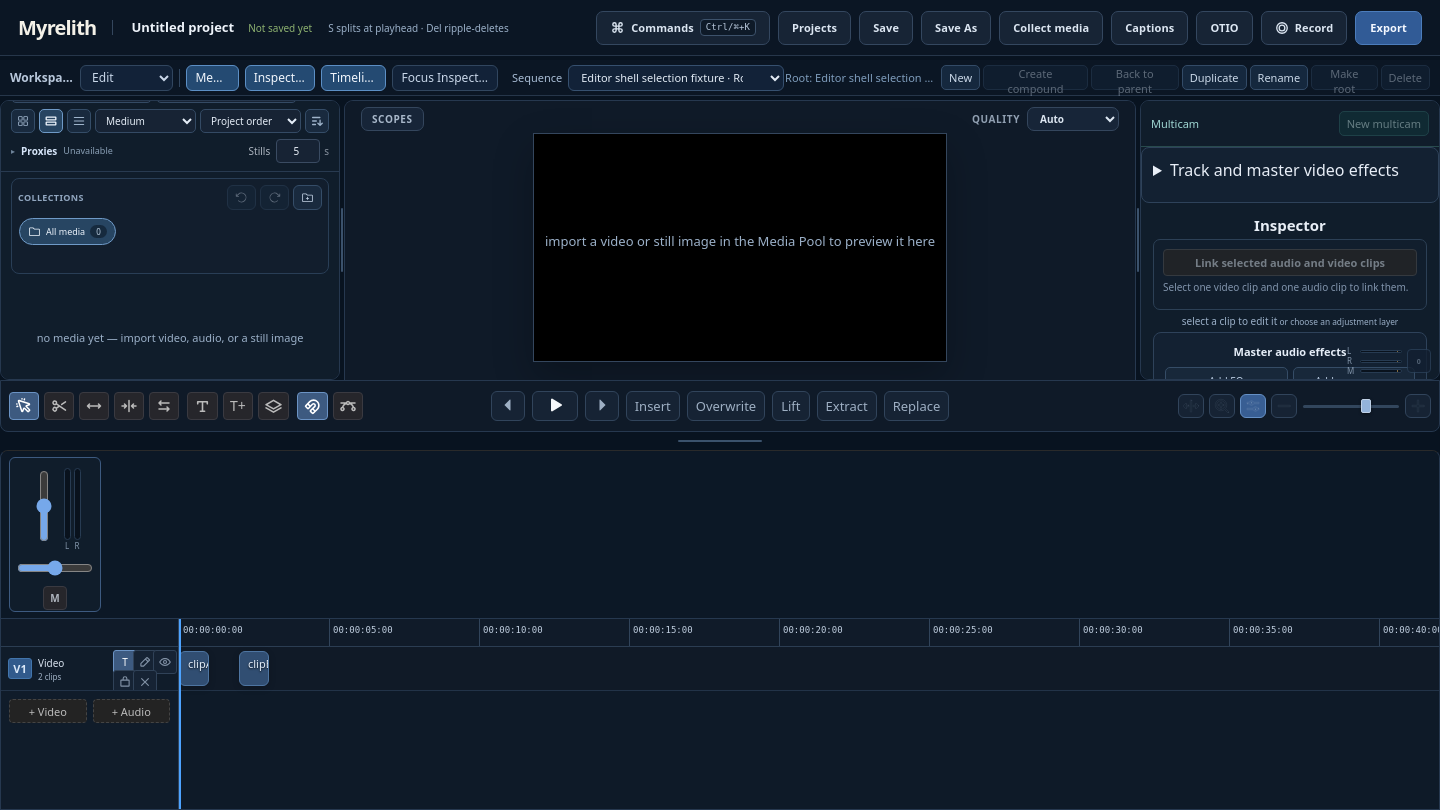
Test case: EditorShell › keeps Add text with the timeline tools
(page scrolled)
Expected: the element named "Add text" is shown, [9, 392, 363, 420]
Click the button named "Add text" at (202, 406), box [187, 392, 218, 420]
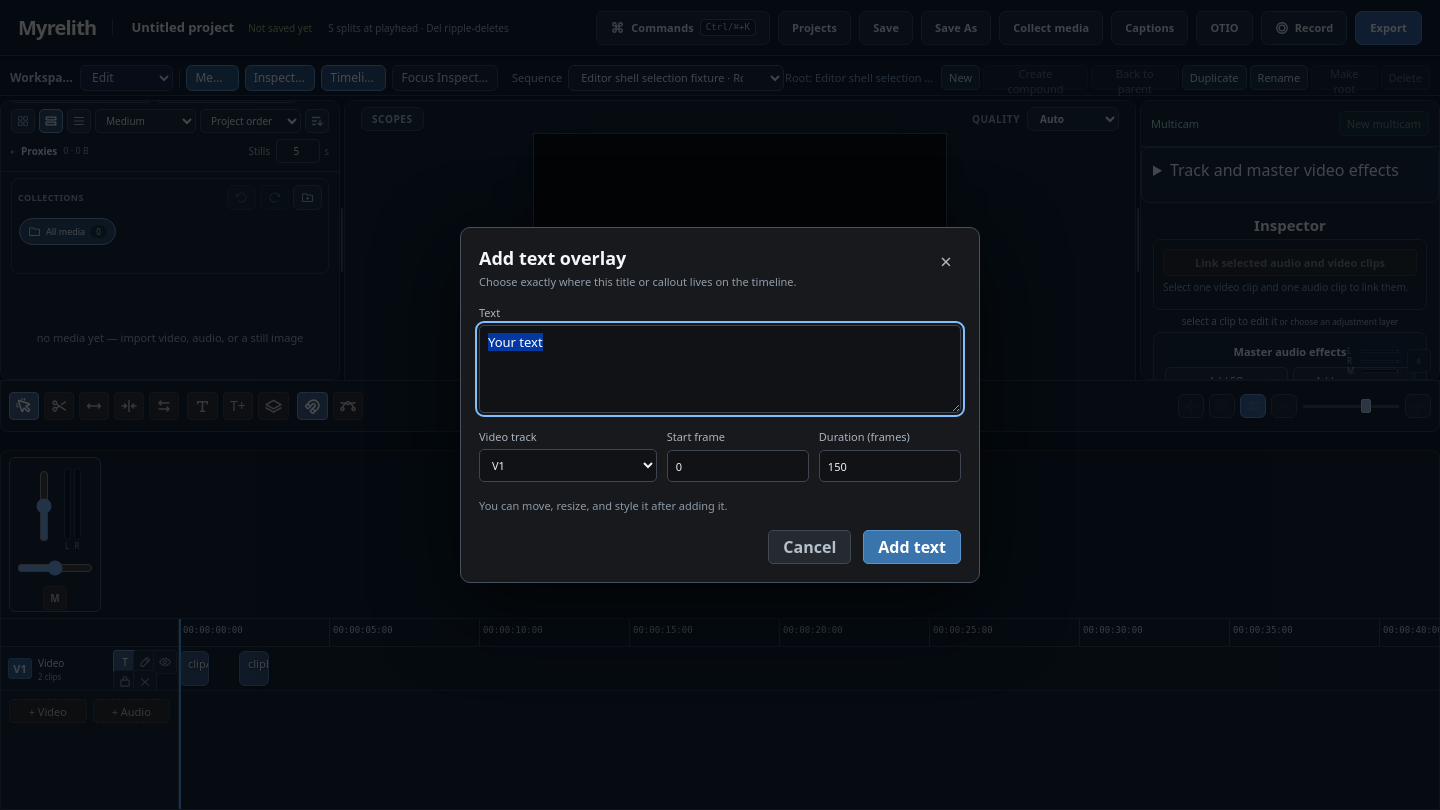
Expected: the heading "Add text overlay" is shown, [479, 246, 626, 270]
